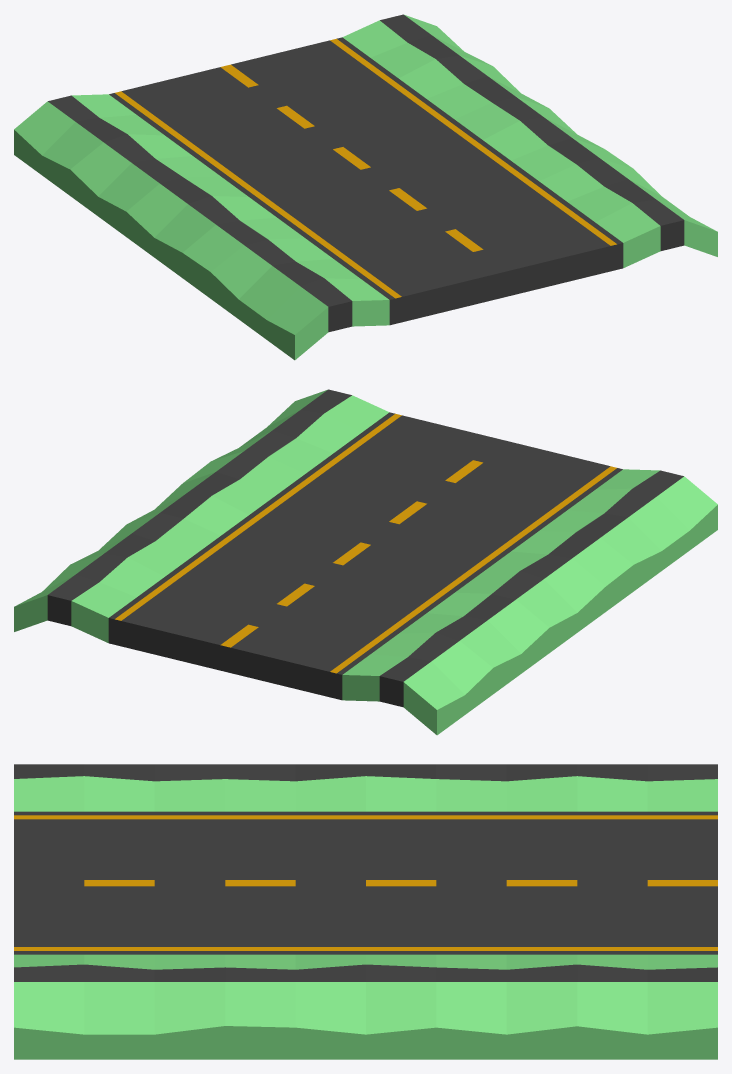
Rendered from Street.fbx.
The picture shows the model from 3 angles, top to bottom: view 1: azimuth 30°, elevation 25°; view 2: azimuth 150°, elevation 25°; view 3: azimuth 270°, elevation 25°; orthographic projection. The views are drawn at different scales.
Parts seen in each view (by area): view 1: Würfel; view 2: Würfel; view 3: Würfel.
Part boxes in pixels (x1,y1,x2,y2): Würfel: [14, 14, 717, 360]; Würfel: [14, 389, 717, 735]; Würfel: [14, 764, 717, 1059].
Bounding box in the file's own units: 1739 × 188 × 2000.
